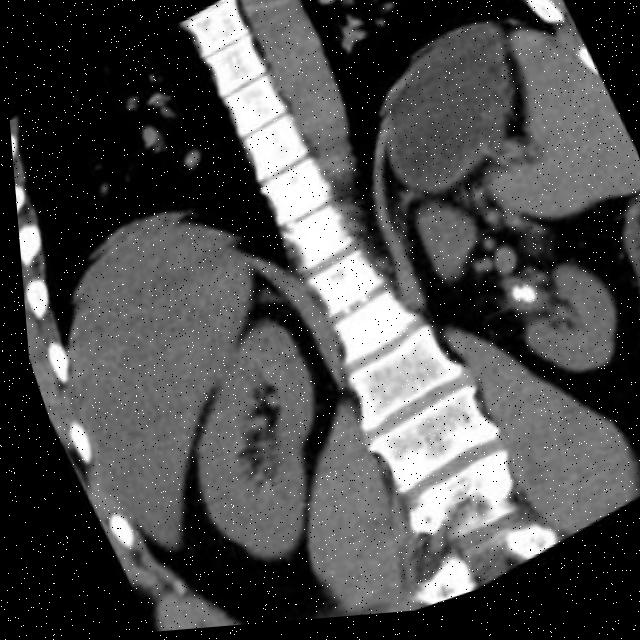Tas_Var: (509, 289, 531, 313), (500, 289, 518, 313)
